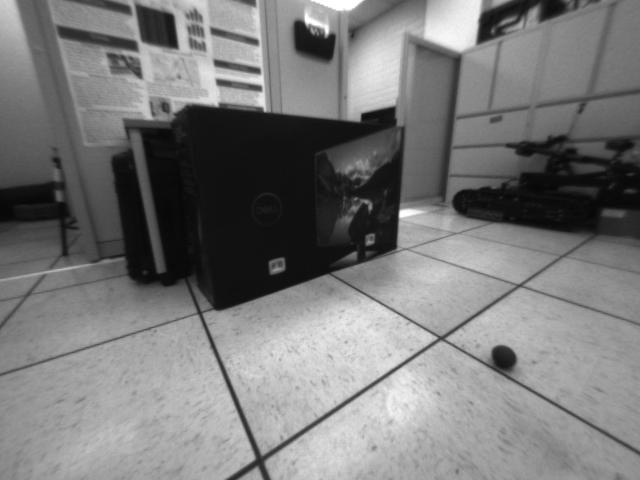dogtoy: (484, 338, 525, 379)
